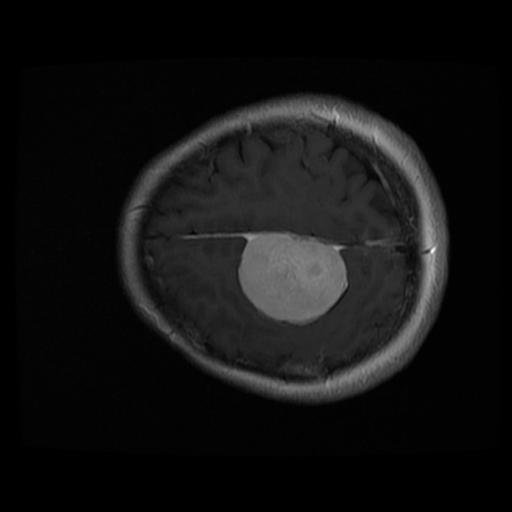meningioma: (237, 230, 348, 326)
